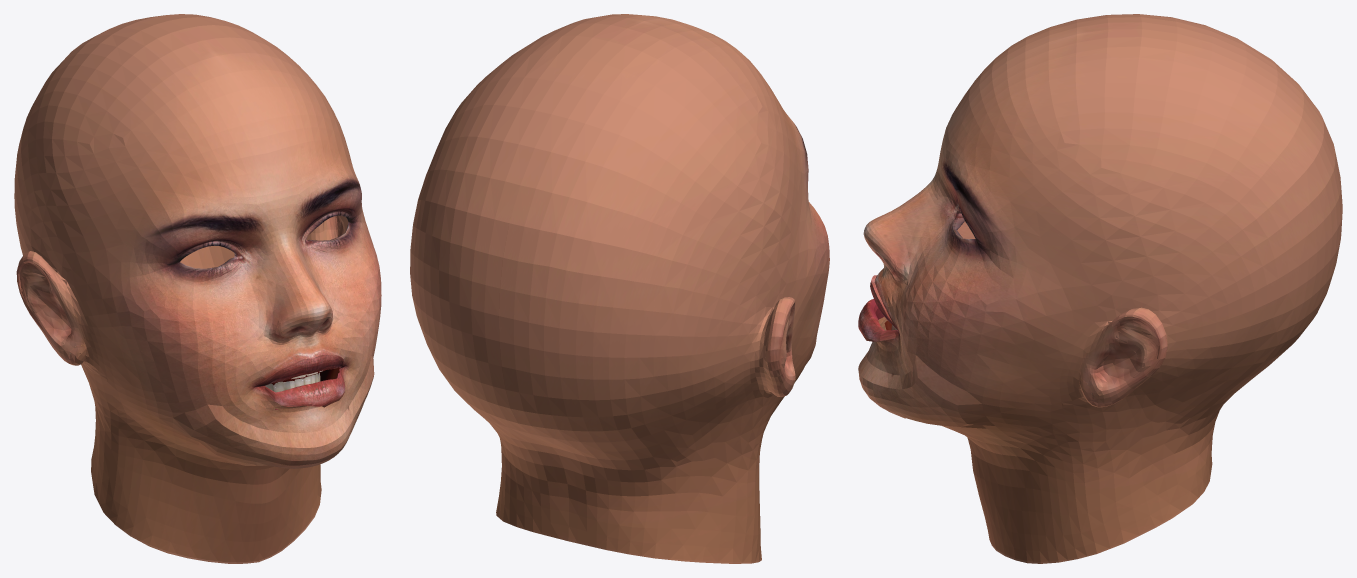
Rendered from shorti.obj.
The picture shows the model from 3 angles, left to right: view 1: azimuth 30°, elevation 25°; view 2: azimuth 150°, elevation 25°; view 3: azimuth 270°, elevation 25°; orthographic projection. The views are drawn at different scales.
Visible parts, largest first — view 1: Mesh_skin_hi.001, Mesh.003_teethLower.001; view 2: Mesh_skin_hi.001; view 3: Mesh_skin_hi.001.
Part boxes in pixels (left/top/right/bottom): Mesh_skin_hi.001: left=14, top=14, right=381, bottom=563; Mesh.003_teethLower.001: left=265, top=372, right=320, bottom=392; Mesh_skin_hi.001: left=410, top=14, right=829, bottom=563; Mesh_skin_hi.001: left=858, top=14, right=1342, bottom=563.
Size of the model in its own units: 198 by 283 by 243.
5 materials, 5 textured.
